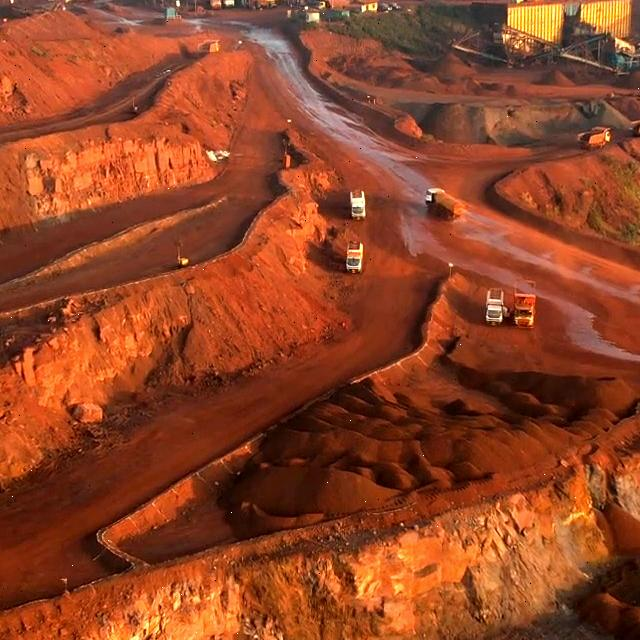Dumper truck: (581, 128, 610, 145), (632, 117, 640, 133), (511, 0, 546, 3)
car: (486, 290, 506, 323), (344, 242, 364, 272), (352, 194, 368, 219)
